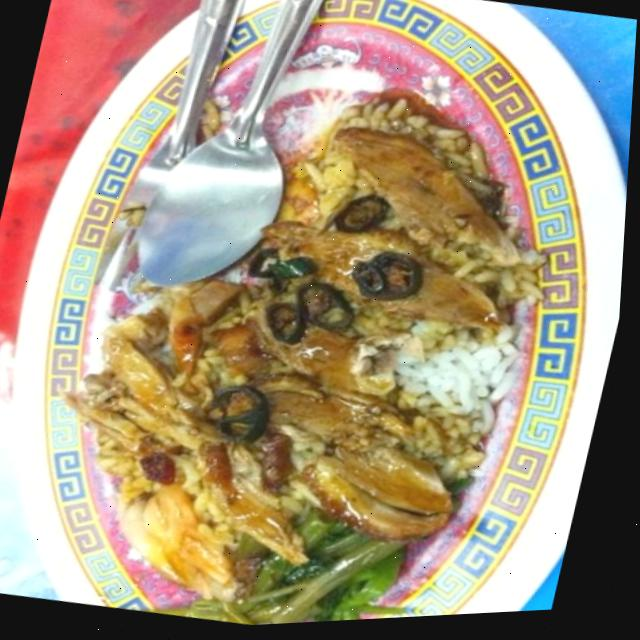米饭主食: (0, 30, 607, 639)
